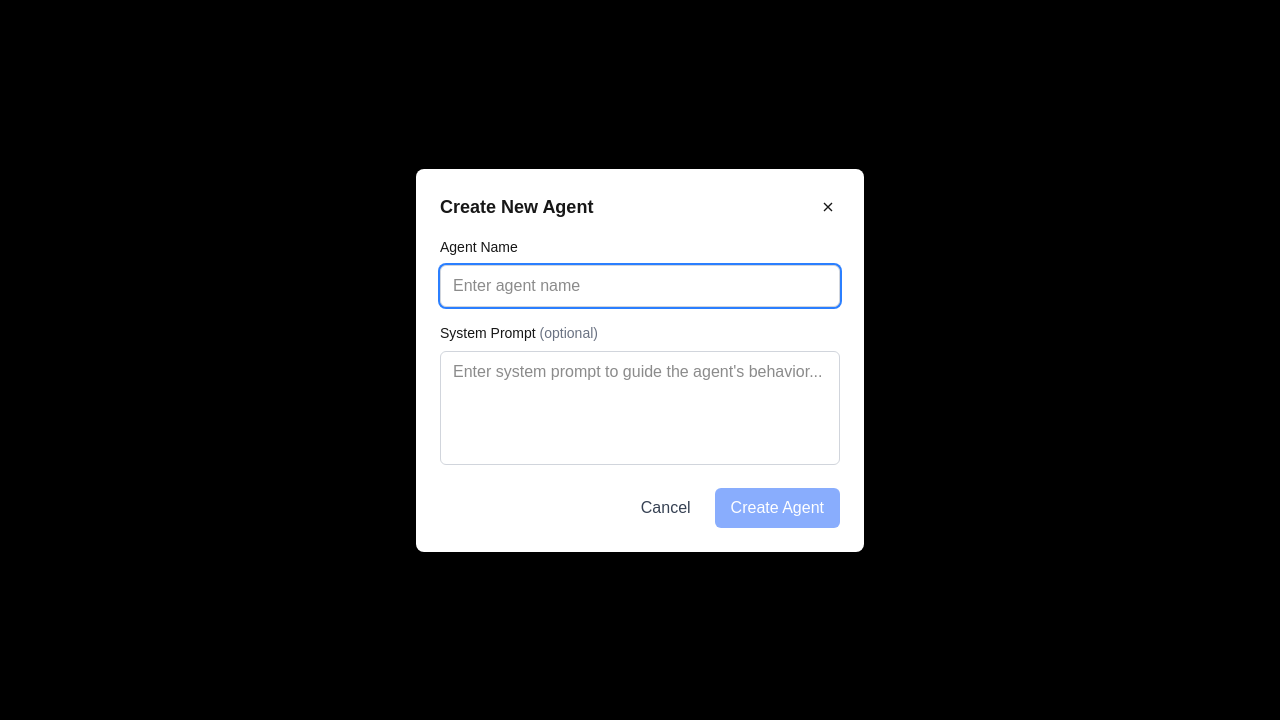
Scenario: CreateAgentModal › Form Reset › clears form when cancel is clicked
Type "Test Agent" into the field labelled "Agent Name" at (640, 286), box [440,264,840,306]
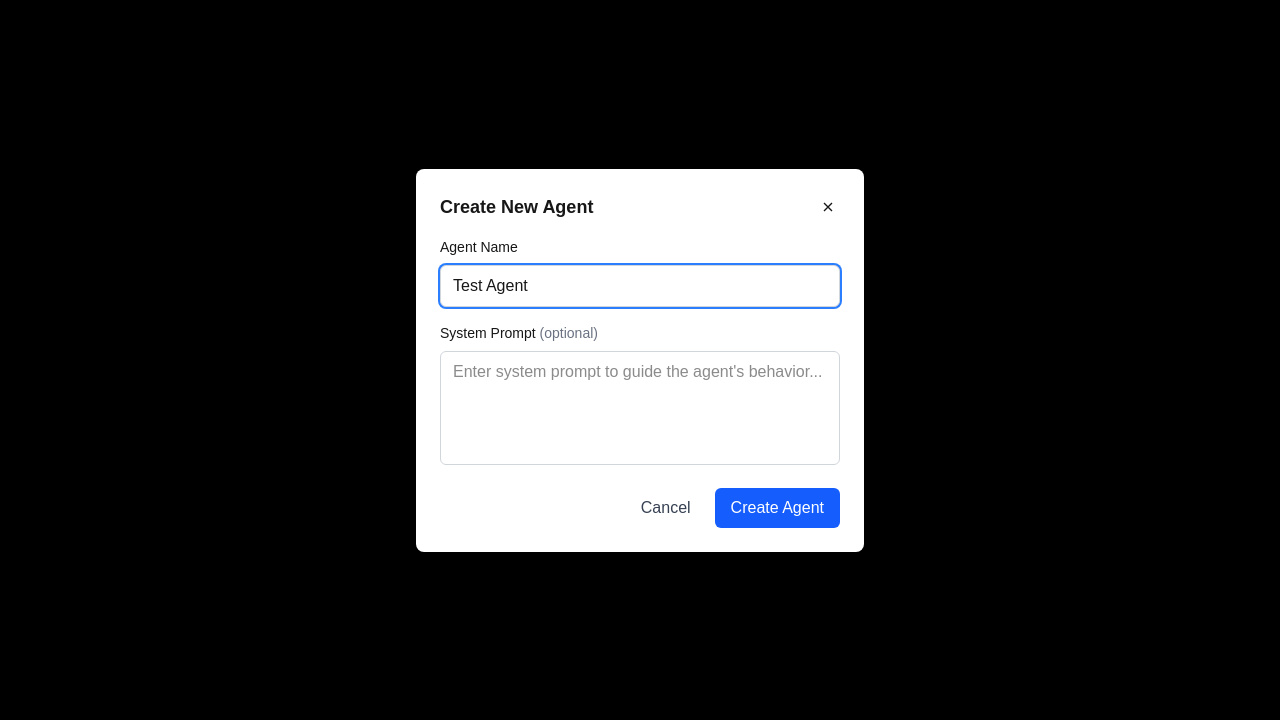
Type "Test prompt" into the text box labelled "System Prompt (optional)" at (640, 408), box [440,350,840,464]
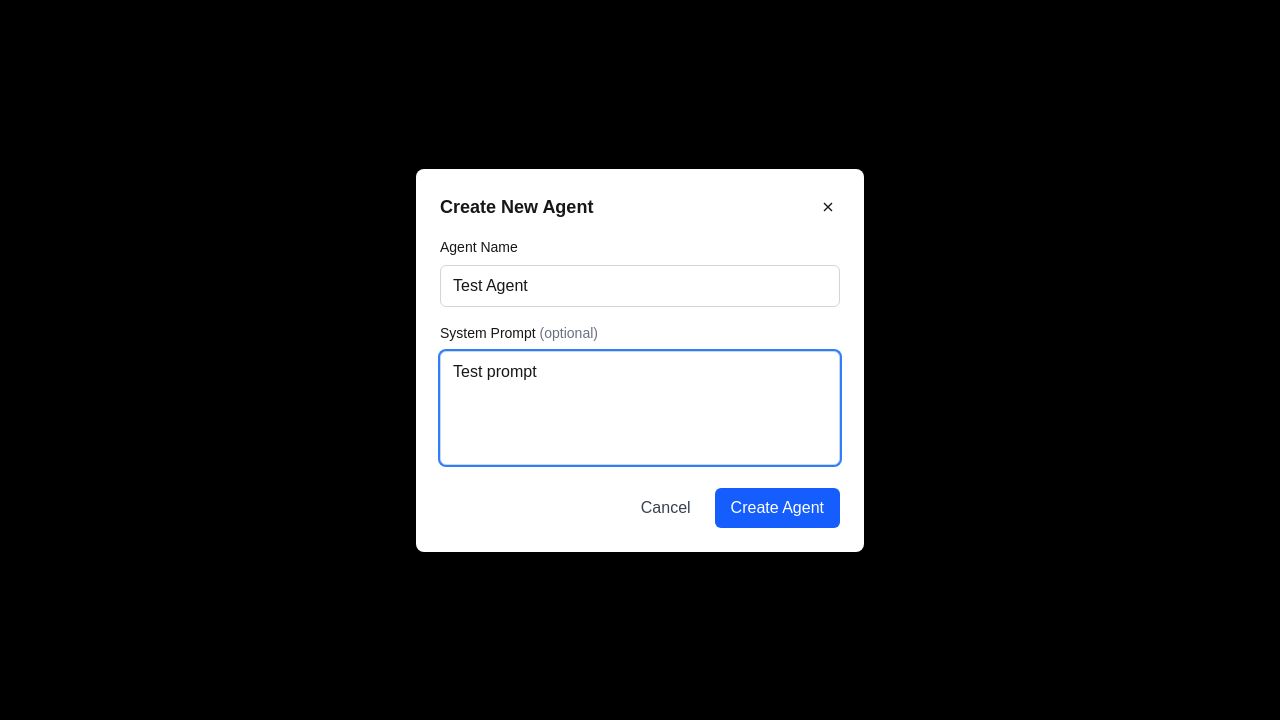
Click the button "Cancel" at (666, 508), box [625,488,707,528]
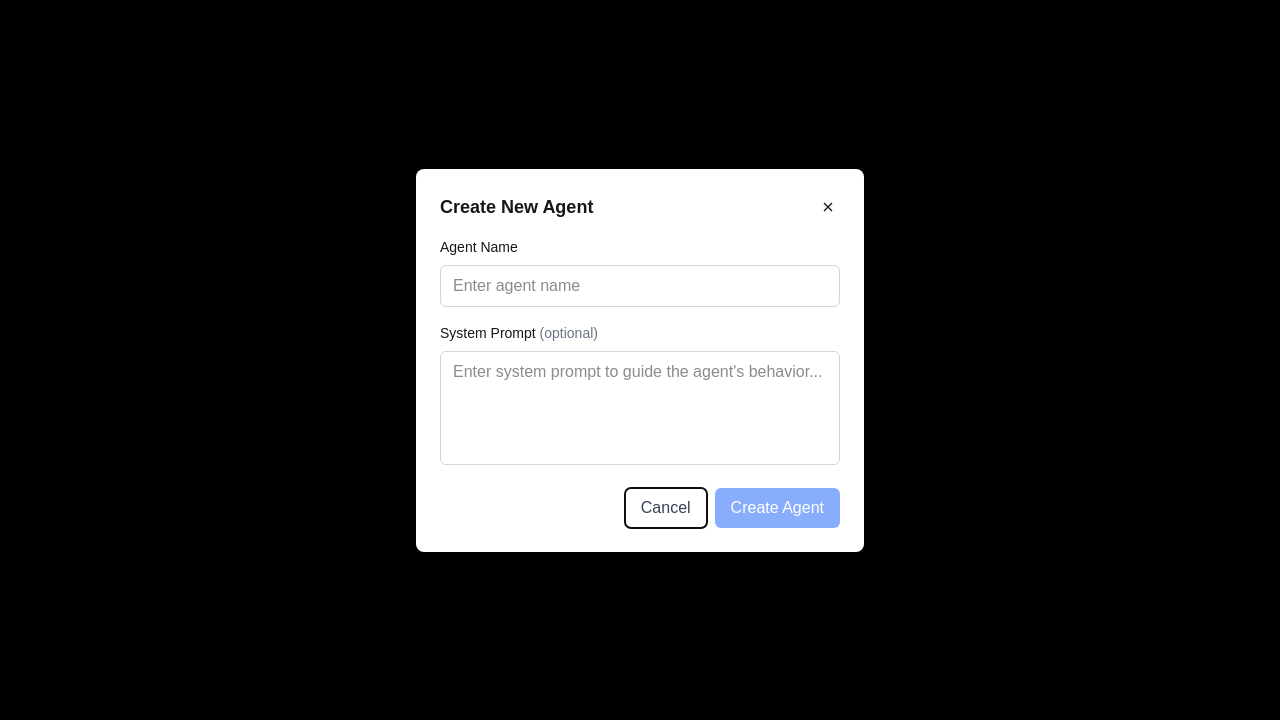
Now the field labelled "Agent Name" is empty, box [440,264,840,306]
Now the text box labelled "System Prompt (optional)" is empty, box [440,350,840,464]
